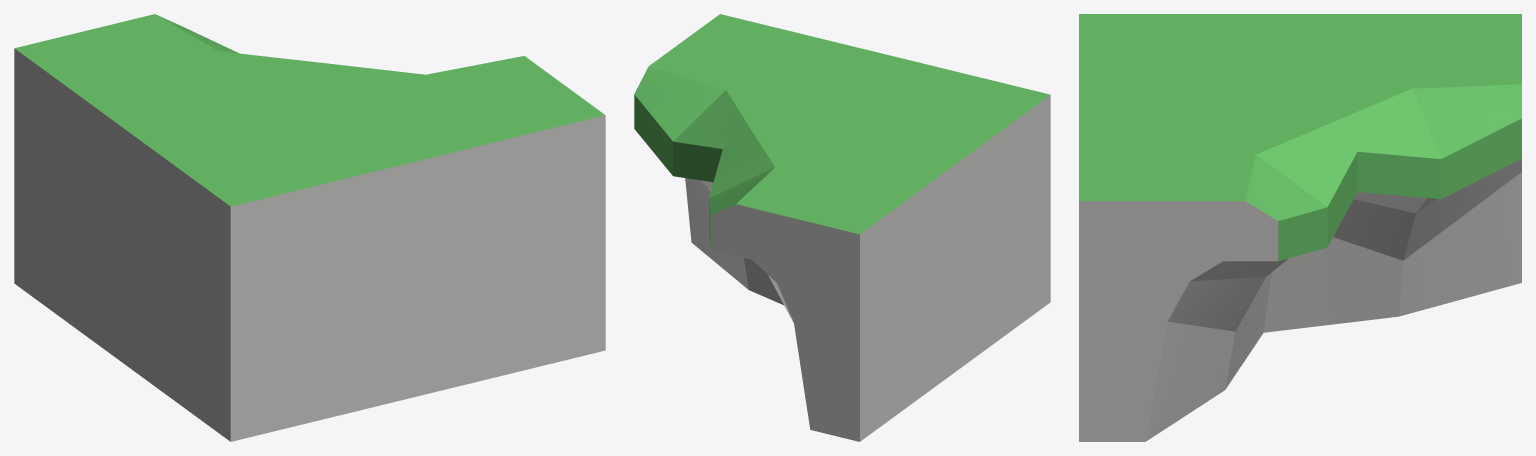
Rendered from Cliff_Top_Corner_Inner_Lg.glb.
3 views of the same model, side by side, from view 1: azimuth 30°, elevation 25°; view 2: azimuth 150°, elevation 25°; view 3: azimuth 270°, elevation 25° (orthographic). The views are drawn at different scales.
Visible parts, largest first — view 1: object1; view 2: object1; view 3: object1.
Part boxes in pixels (left/top/right/bottom): object1: left=14, top=14, right=605, bottom=441; object1: left=634, top=14, right=1050, bottom=441; object1: left=1079, top=14, right=1521, bottom=441.
Bounding box in the file's own units: 2 × 1.2 × 2.
